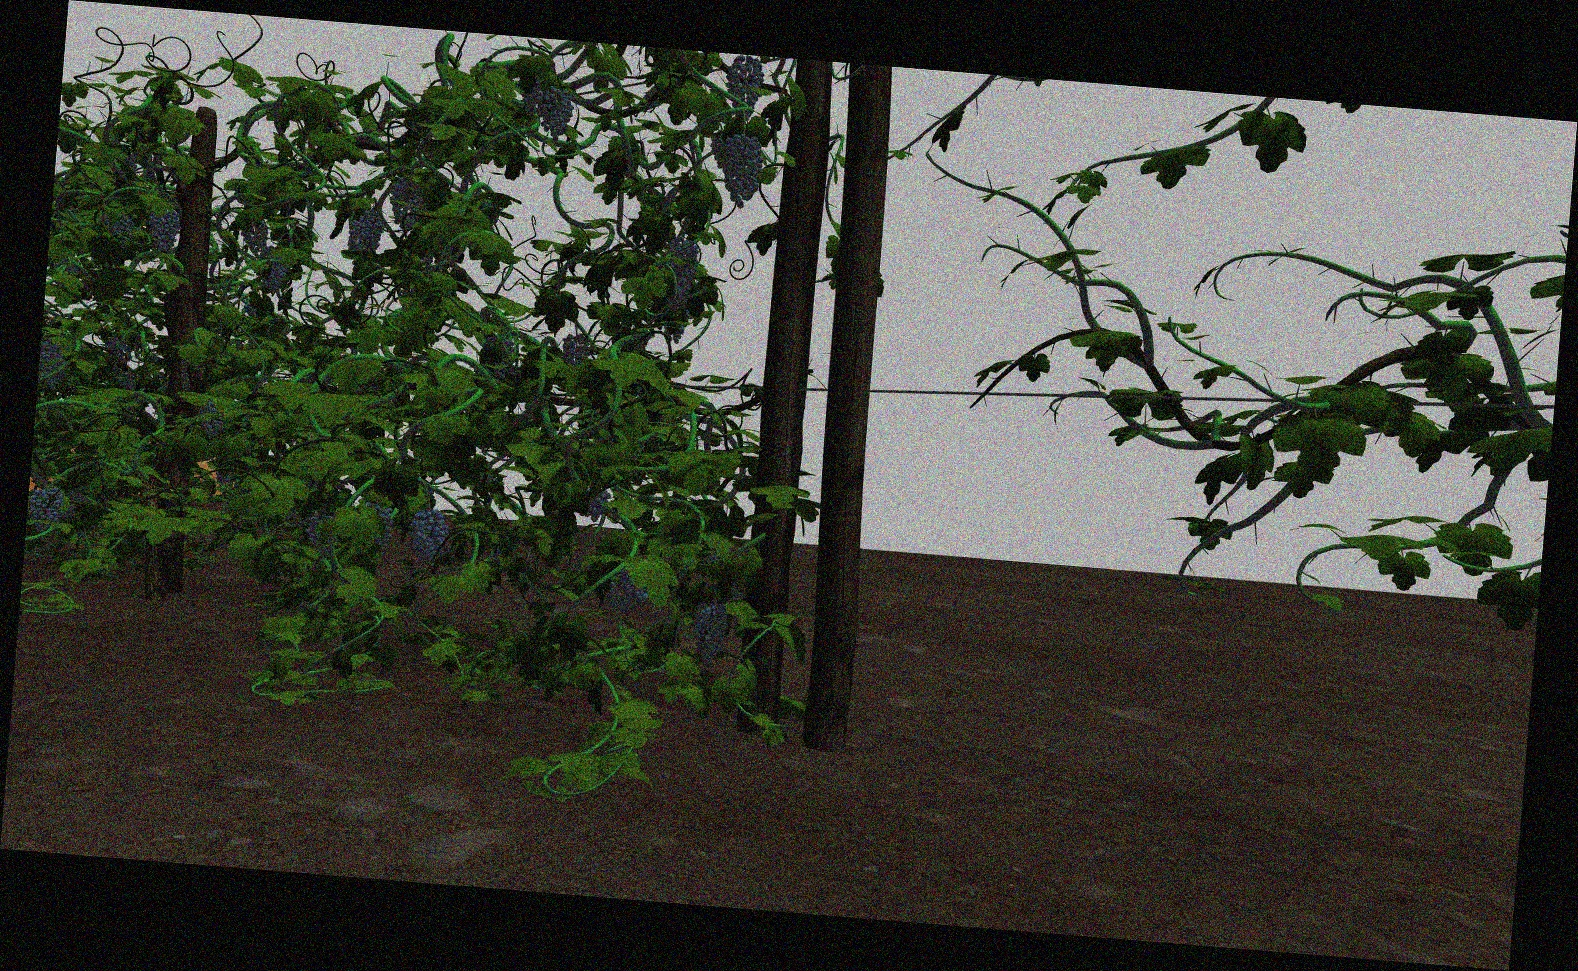grape: (721, 133, 765, 208), (662, 233, 700, 306), (406, 510, 447, 572), (725, 58, 764, 120), (692, 600, 727, 667), (389, 177, 427, 232), (608, 568, 650, 615), (345, 209, 383, 254), (147, 206, 180, 256), (256, 246, 287, 299), (544, 86, 573, 138), (30, 487, 65, 528), (41, 342, 65, 391), (561, 332, 591, 369), (241, 217, 269, 255), (521, 80, 550, 116)
